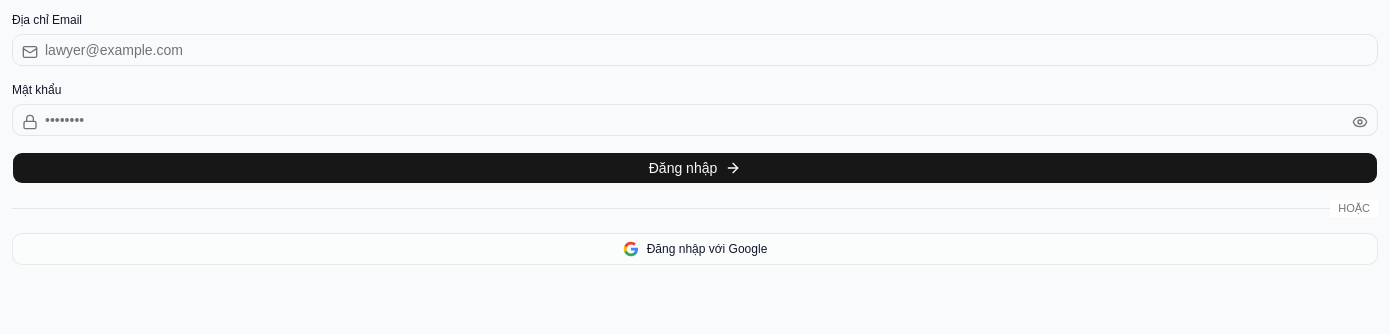
Scenario: Auth Feature › LoginForm component › displays error alert when login fails
Type "wrong@example.com" into the field labelled "Địa chỉ Email" at {"x": 695, "y": 50}, box [12,34,1378,66]
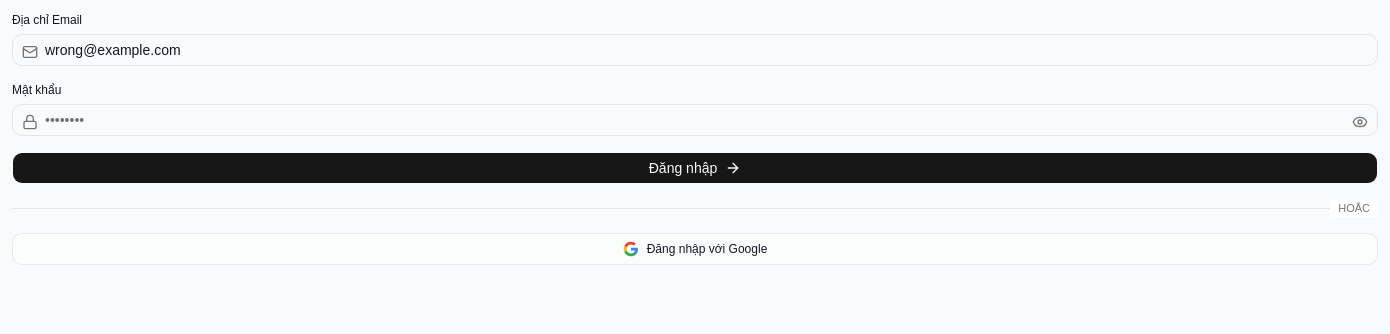
Type "WrongPass!" into the password field labelled "Mật khẩu" at {"x": 695, "y": 120}, box [12,104,1378,136]
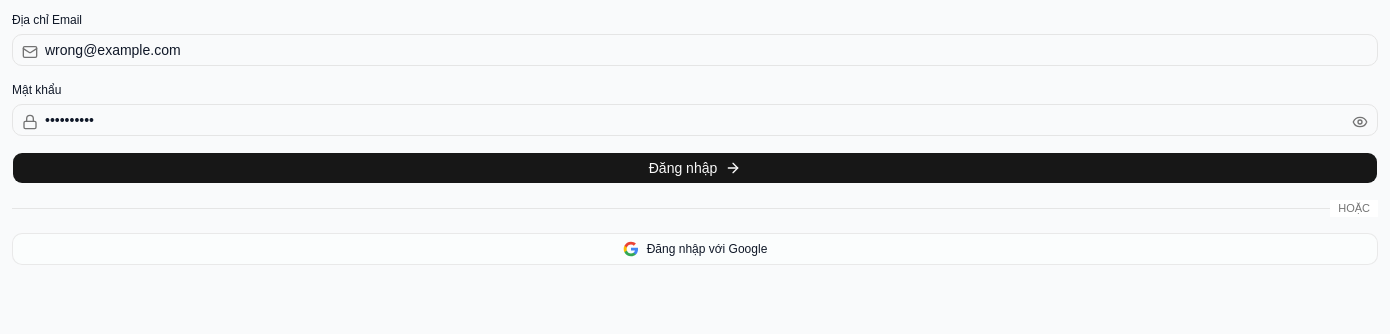
Click the button "Đăng nhập" at {"x": 695, "y": 168}, box [12,152,1378,184]
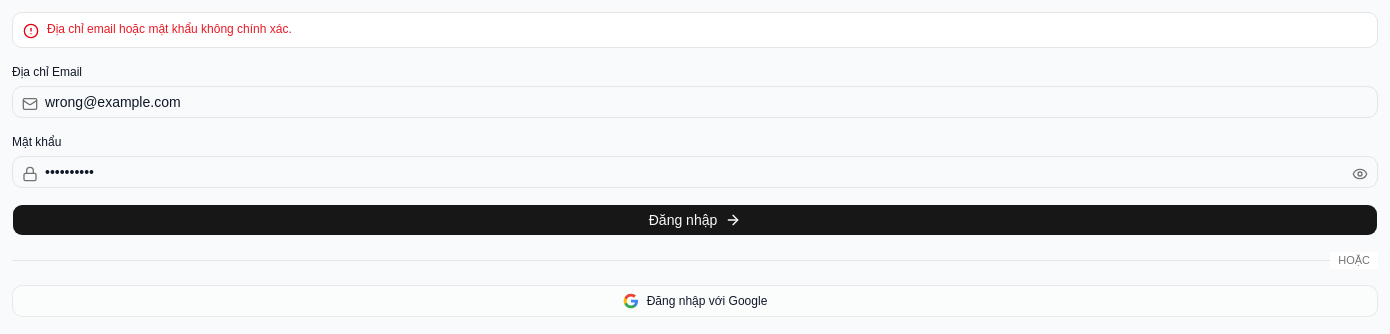
Expected: the text "Địa chỉ email hoặc mật khẩu không chính xác." is shown, [47,22,292,36]
